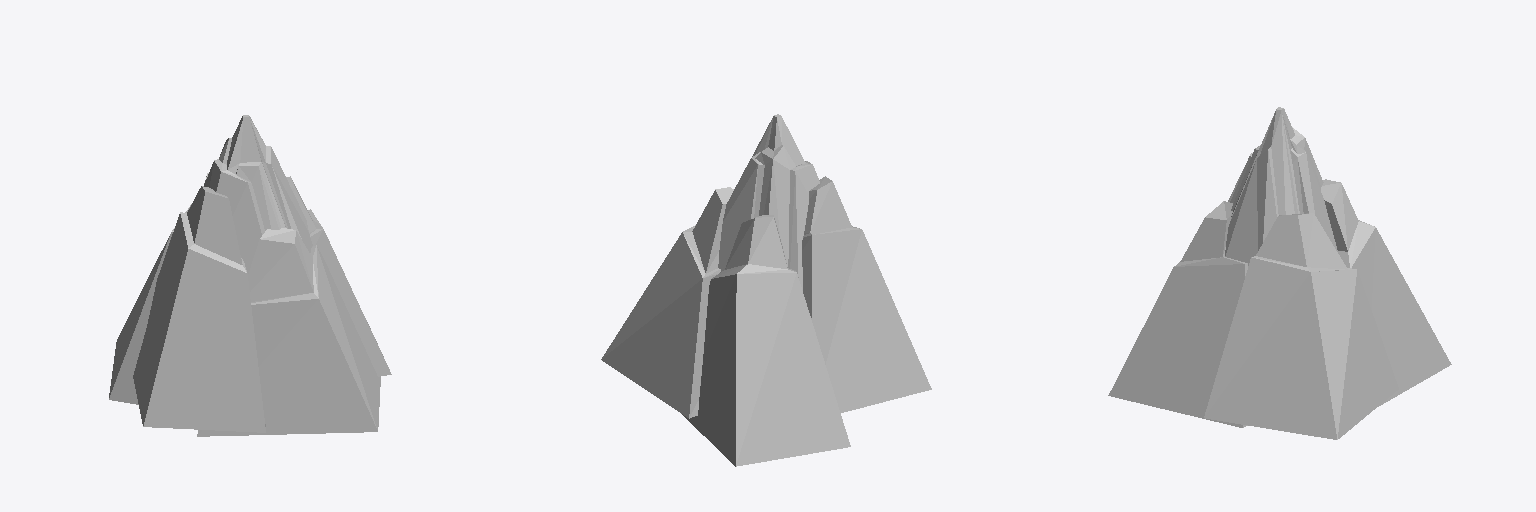
Rendered from BGmountain16.obj.
3 renders of one model, left to right at view 1: azimuth 30°, elevation 25°; view 2: azimuth 150°, elevation 25°; view 3: azimuth 270°, elevation 25°, orthographic.
Parts seen in each view (by area): view 1: polySurface18; view 2: polySurface18; view 3: polySurface18.
Boxes of the visible parts, x1,y1,x2,y2 form: polySurface18: [109, 115, 391, 436]; polySurface18: [601, 114, 931, 466]; polySurface18: [1108, 107, 1451, 439].
Bounding box in the file's own units: 25211 × 24802 × 27086.